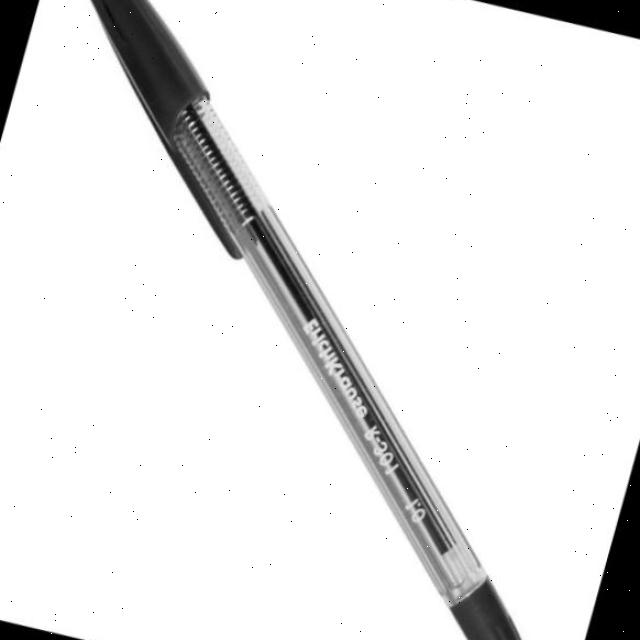pencil: (81, 0, 558, 640)
